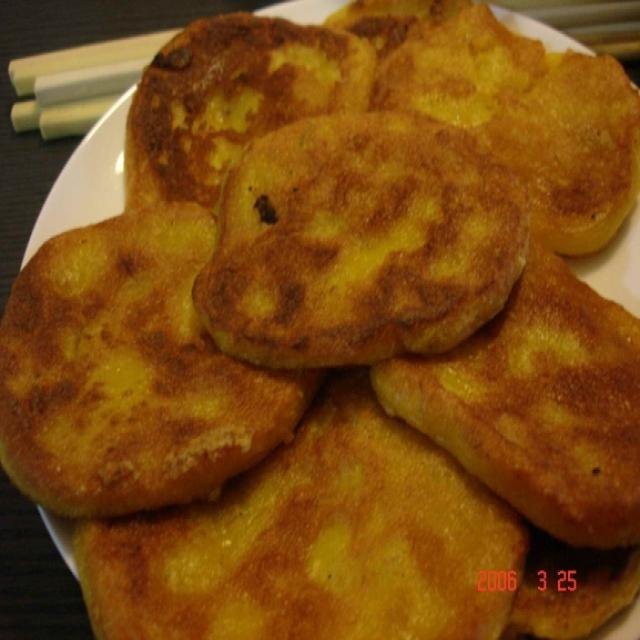炸货点心: (11, 11, 629, 628)
蛋糕甜品: (11, 11, 629, 628)
